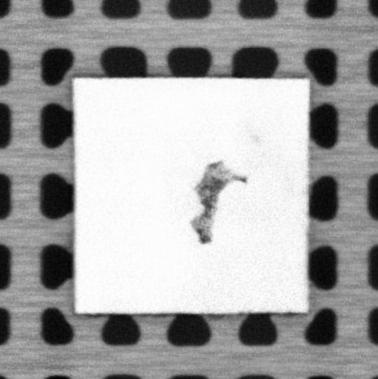DIE_INK: (192, 159, 249, 246)
